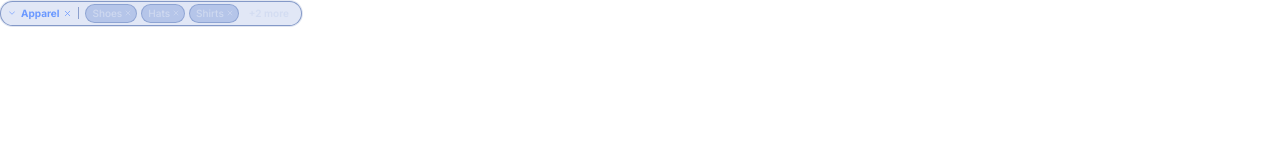
it: ChipCluster > expanded › mousedown outside popover closes it
Step 1. Click the button "+2 more" → [269, 13], box 243,4 -> 295,22
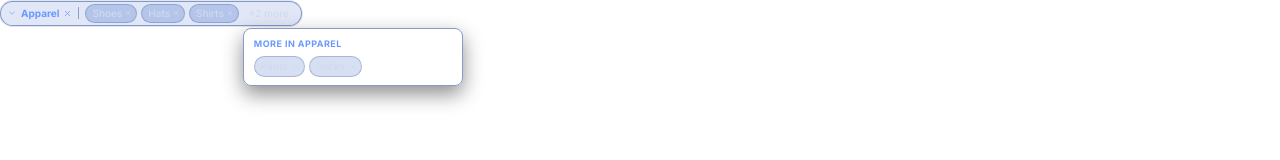
Now the text "Pants" is shown, box 261,59 -> 288,74
Step 2. Press the mouse on the element that starts with "Apparel" → [640, 13], box 0,0 -> 1279,26
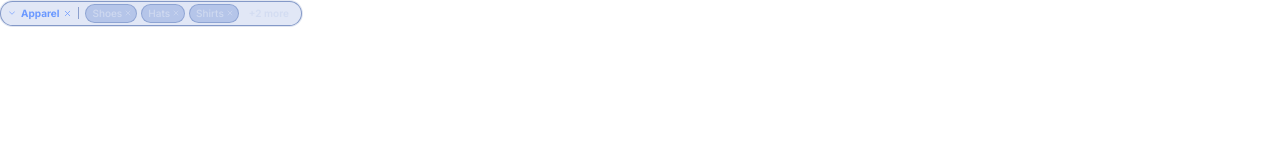
Now the text "Pants" is gone
